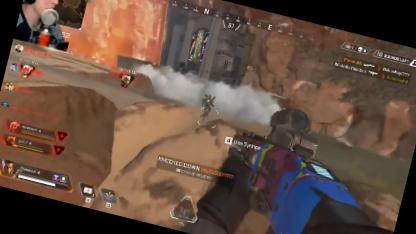Target: (198, 92, 214, 121)
